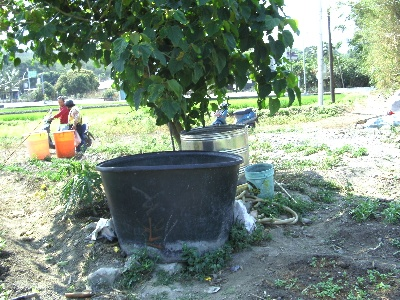bucket: (94, 150, 243, 255), (179, 124, 250, 181), (244, 162, 274, 198), (52, 128, 75, 158), (27, 131, 49, 159)
